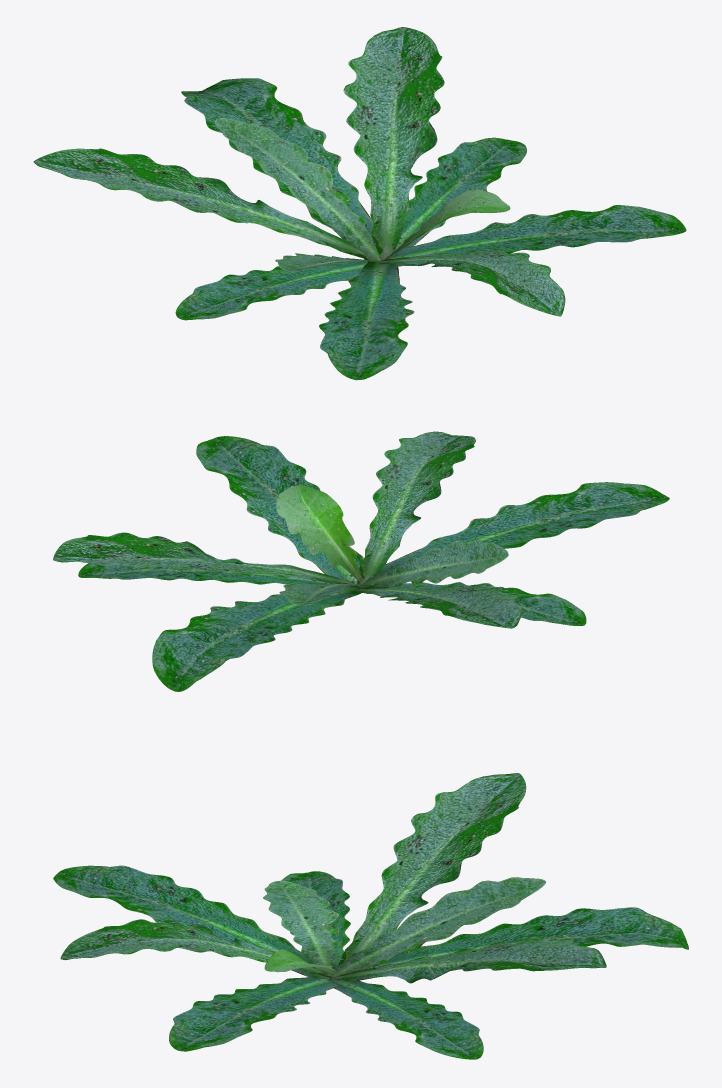
File: plant 2.fbx
3 views of the same model, one above another, from view 1: azimuth 30°, elevation 25°; view 2: azimuth 150°, elevation 25°; view 3: azimuth 270°, elevation 25° (orthographic). The views are drawn at different scales.
Visible parts, largest first — view 1: plant_2; view 2: plant_2; view 3: plant_2.
Boxes of the visible parts, box(x1,y1,x2,y2) form: plant_2: box(33, 27, 686, 380); plant_2: box(53, 431, 669, 691); plant_2: box(53, 773, 688, 1059).
Bounding box in the file's own units: 586 × 102 × 664.
